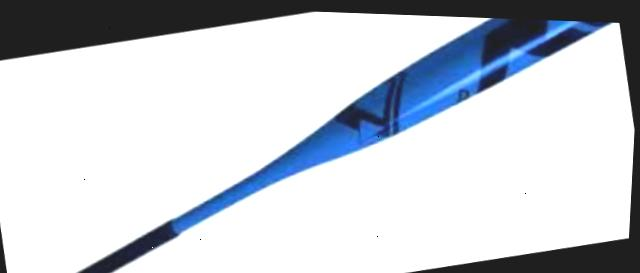baseball bat: (58, 14, 612, 273)
